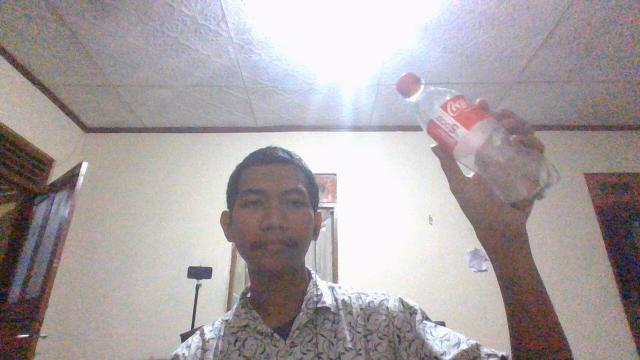coca-cola: (395, 70, 564, 216)
